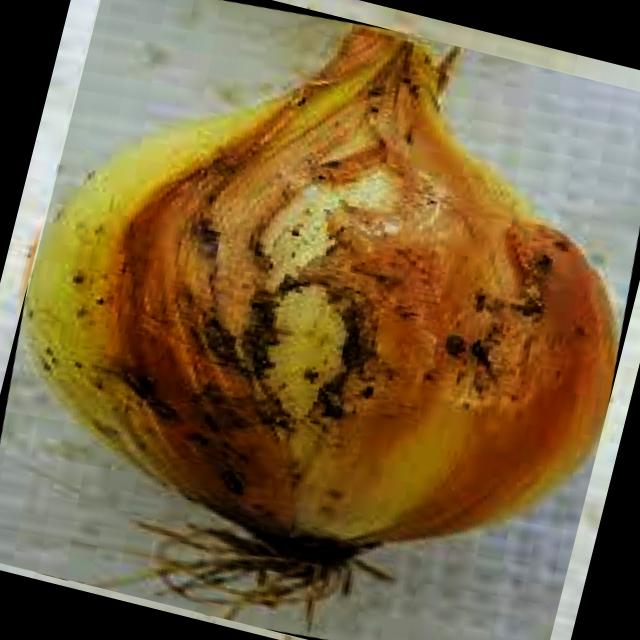sprouting: (26, 24, 617, 620)
